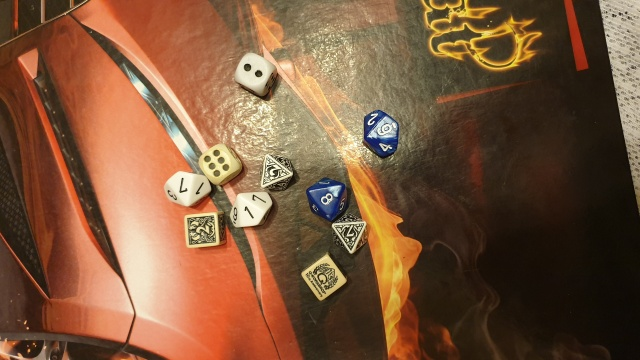d10-1: (226, 190, 275, 233)
d10-6: (362, 109, 402, 160)
d10-7: (157, 170, 209, 208)
d10-8: (316, 188, 338, 209)
d6-2: (235, 49, 273, 94)
d6-6: (198, 144, 240, 182)
d6p-2: (182, 211, 223, 249)
d6p-6: (299, 251, 350, 304)
d8p-2: (258, 151, 297, 192)
d8p-7: (328, 214, 370, 257)
